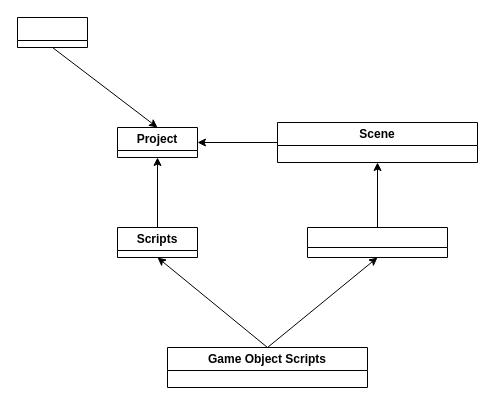
Image size: 495x405. Some labels were removed from this diagram. The shapes that lost their labels are listed below. From the top down, each one's centre as x and y in pixels, then its label:
[52,32]: Users
[377,242]: Game Objects
